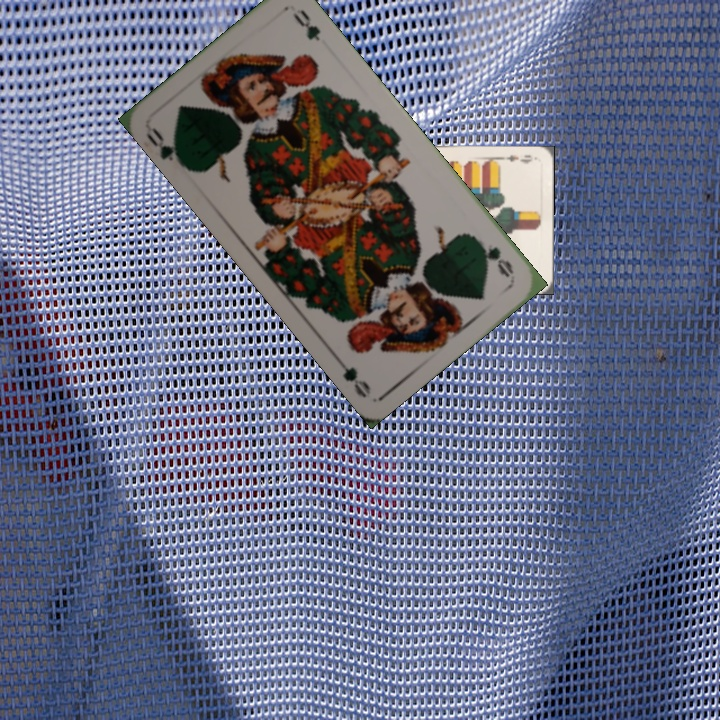E9: (497, 151, 538, 166)
GO: (141, 123, 190, 171), (471, 234, 517, 281)
